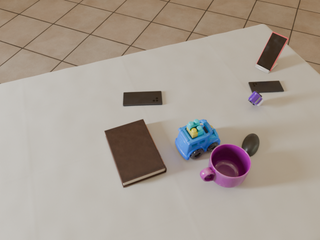book: (104, 119, 167, 188)
cup: (200, 144, 251, 188)
mouse: (241, 134, 259, 156)
phone: (256, 32, 288, 71), (123, 91, 162, 106), (249, 81, 284, 93)
toy_car: (175, 119, 220, 160), (248, 91, 264, 106)
